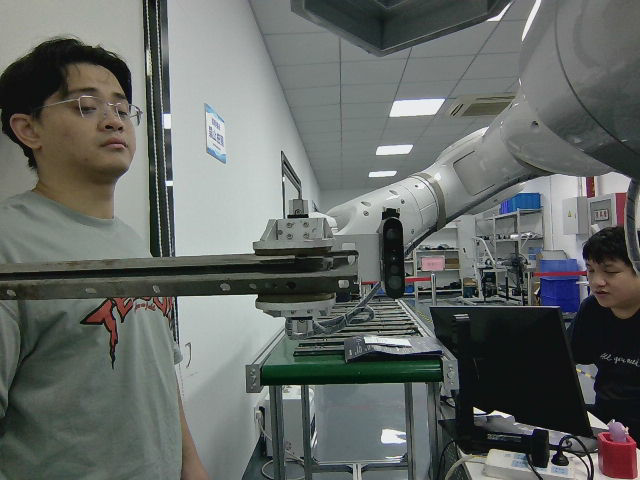right: (0, 250, 359, 304)
